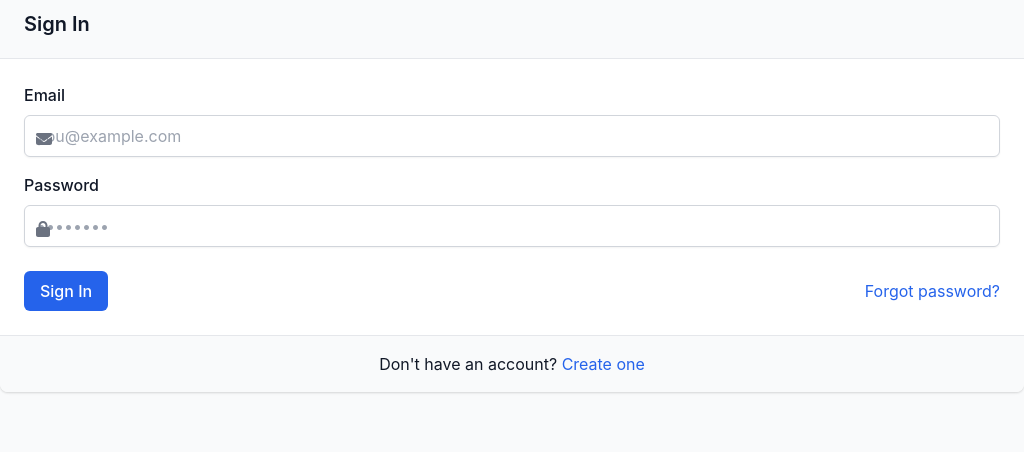
it: LoginForm Component › handles Firebase auth "wrong password" error
Fill in valid data with wrong password
Type "test@example.com" into the field labelled "Email". click: [512, 136]
box: [24,115,1000,157]
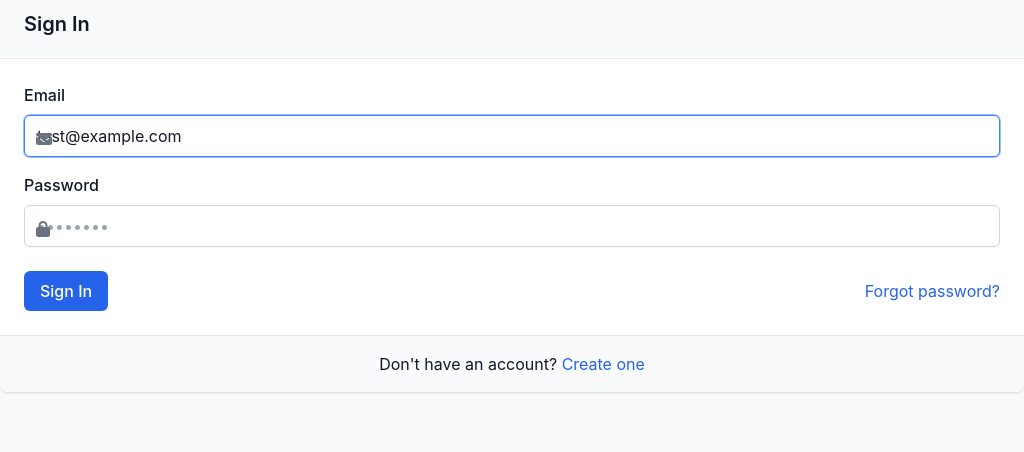
Type "WrongPassword123!" into the password field labelled "Password". click: [512, 226]
box: [24,205,1000,247]
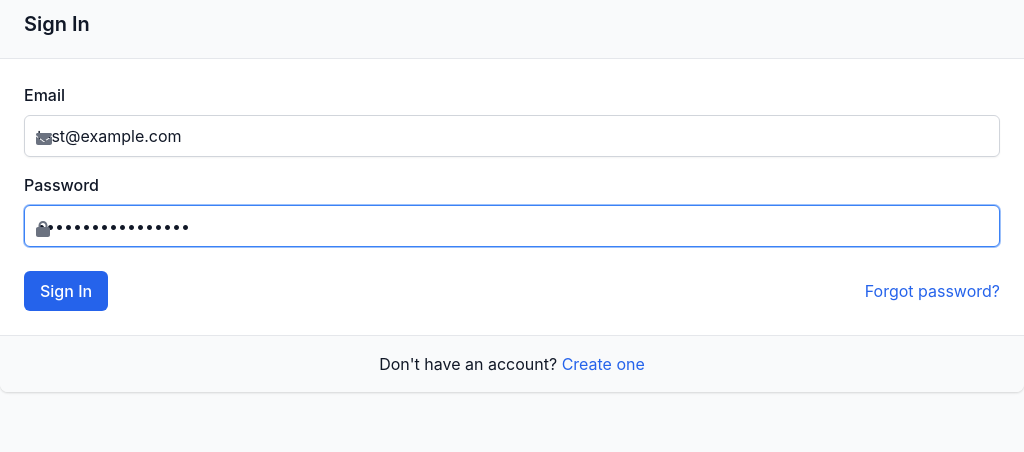
Submit the form
Click the button "Sign In". click: [66, 291]
box: [24,271,108,311]
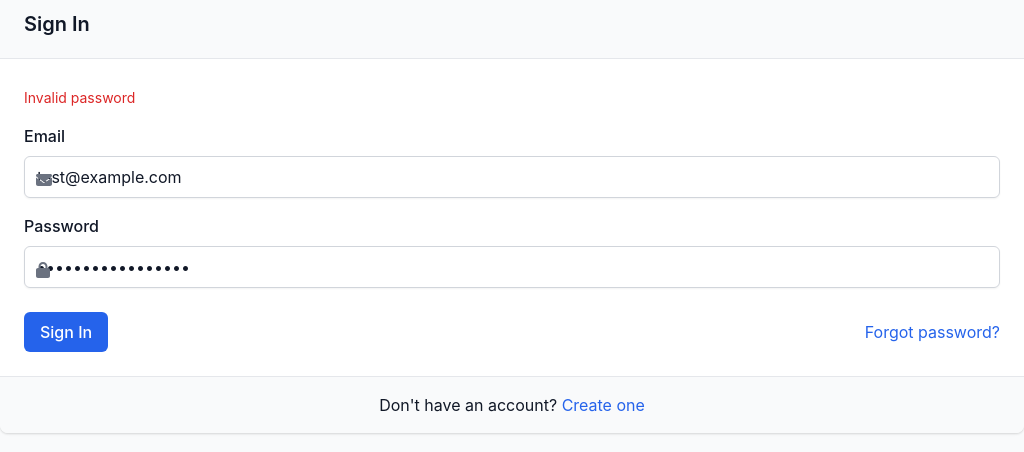
Result: the text "Invalid password" is shown at [24,89,135,106]
